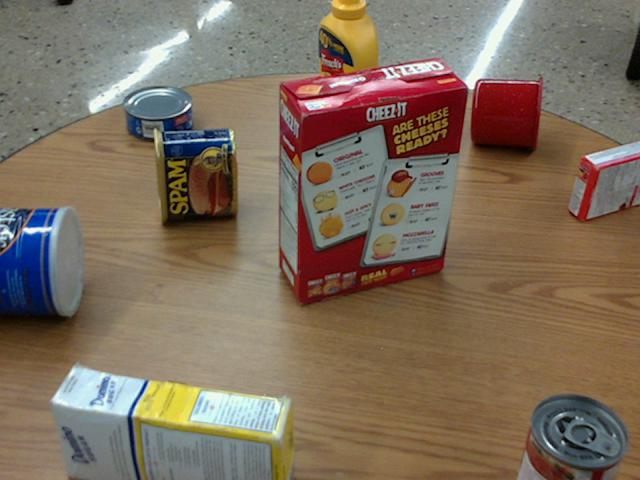cracker_box: (277, 56, 467, 302)
gelatin_box: (569, 142, 639, 221)
master_chef_can: (0, 206, 85, 314)
mug: (471, 74, 541, 150)
mustard_bottle: (317, 0, 376, 143)
potted_meat_can: (152, 126, 236, 221)
sugar_box: (47, 367, 293, 479)
tomato_soup_can: (517, 391, 627, 479)
tuna_fish_can: (124, 84, 193, 139)
